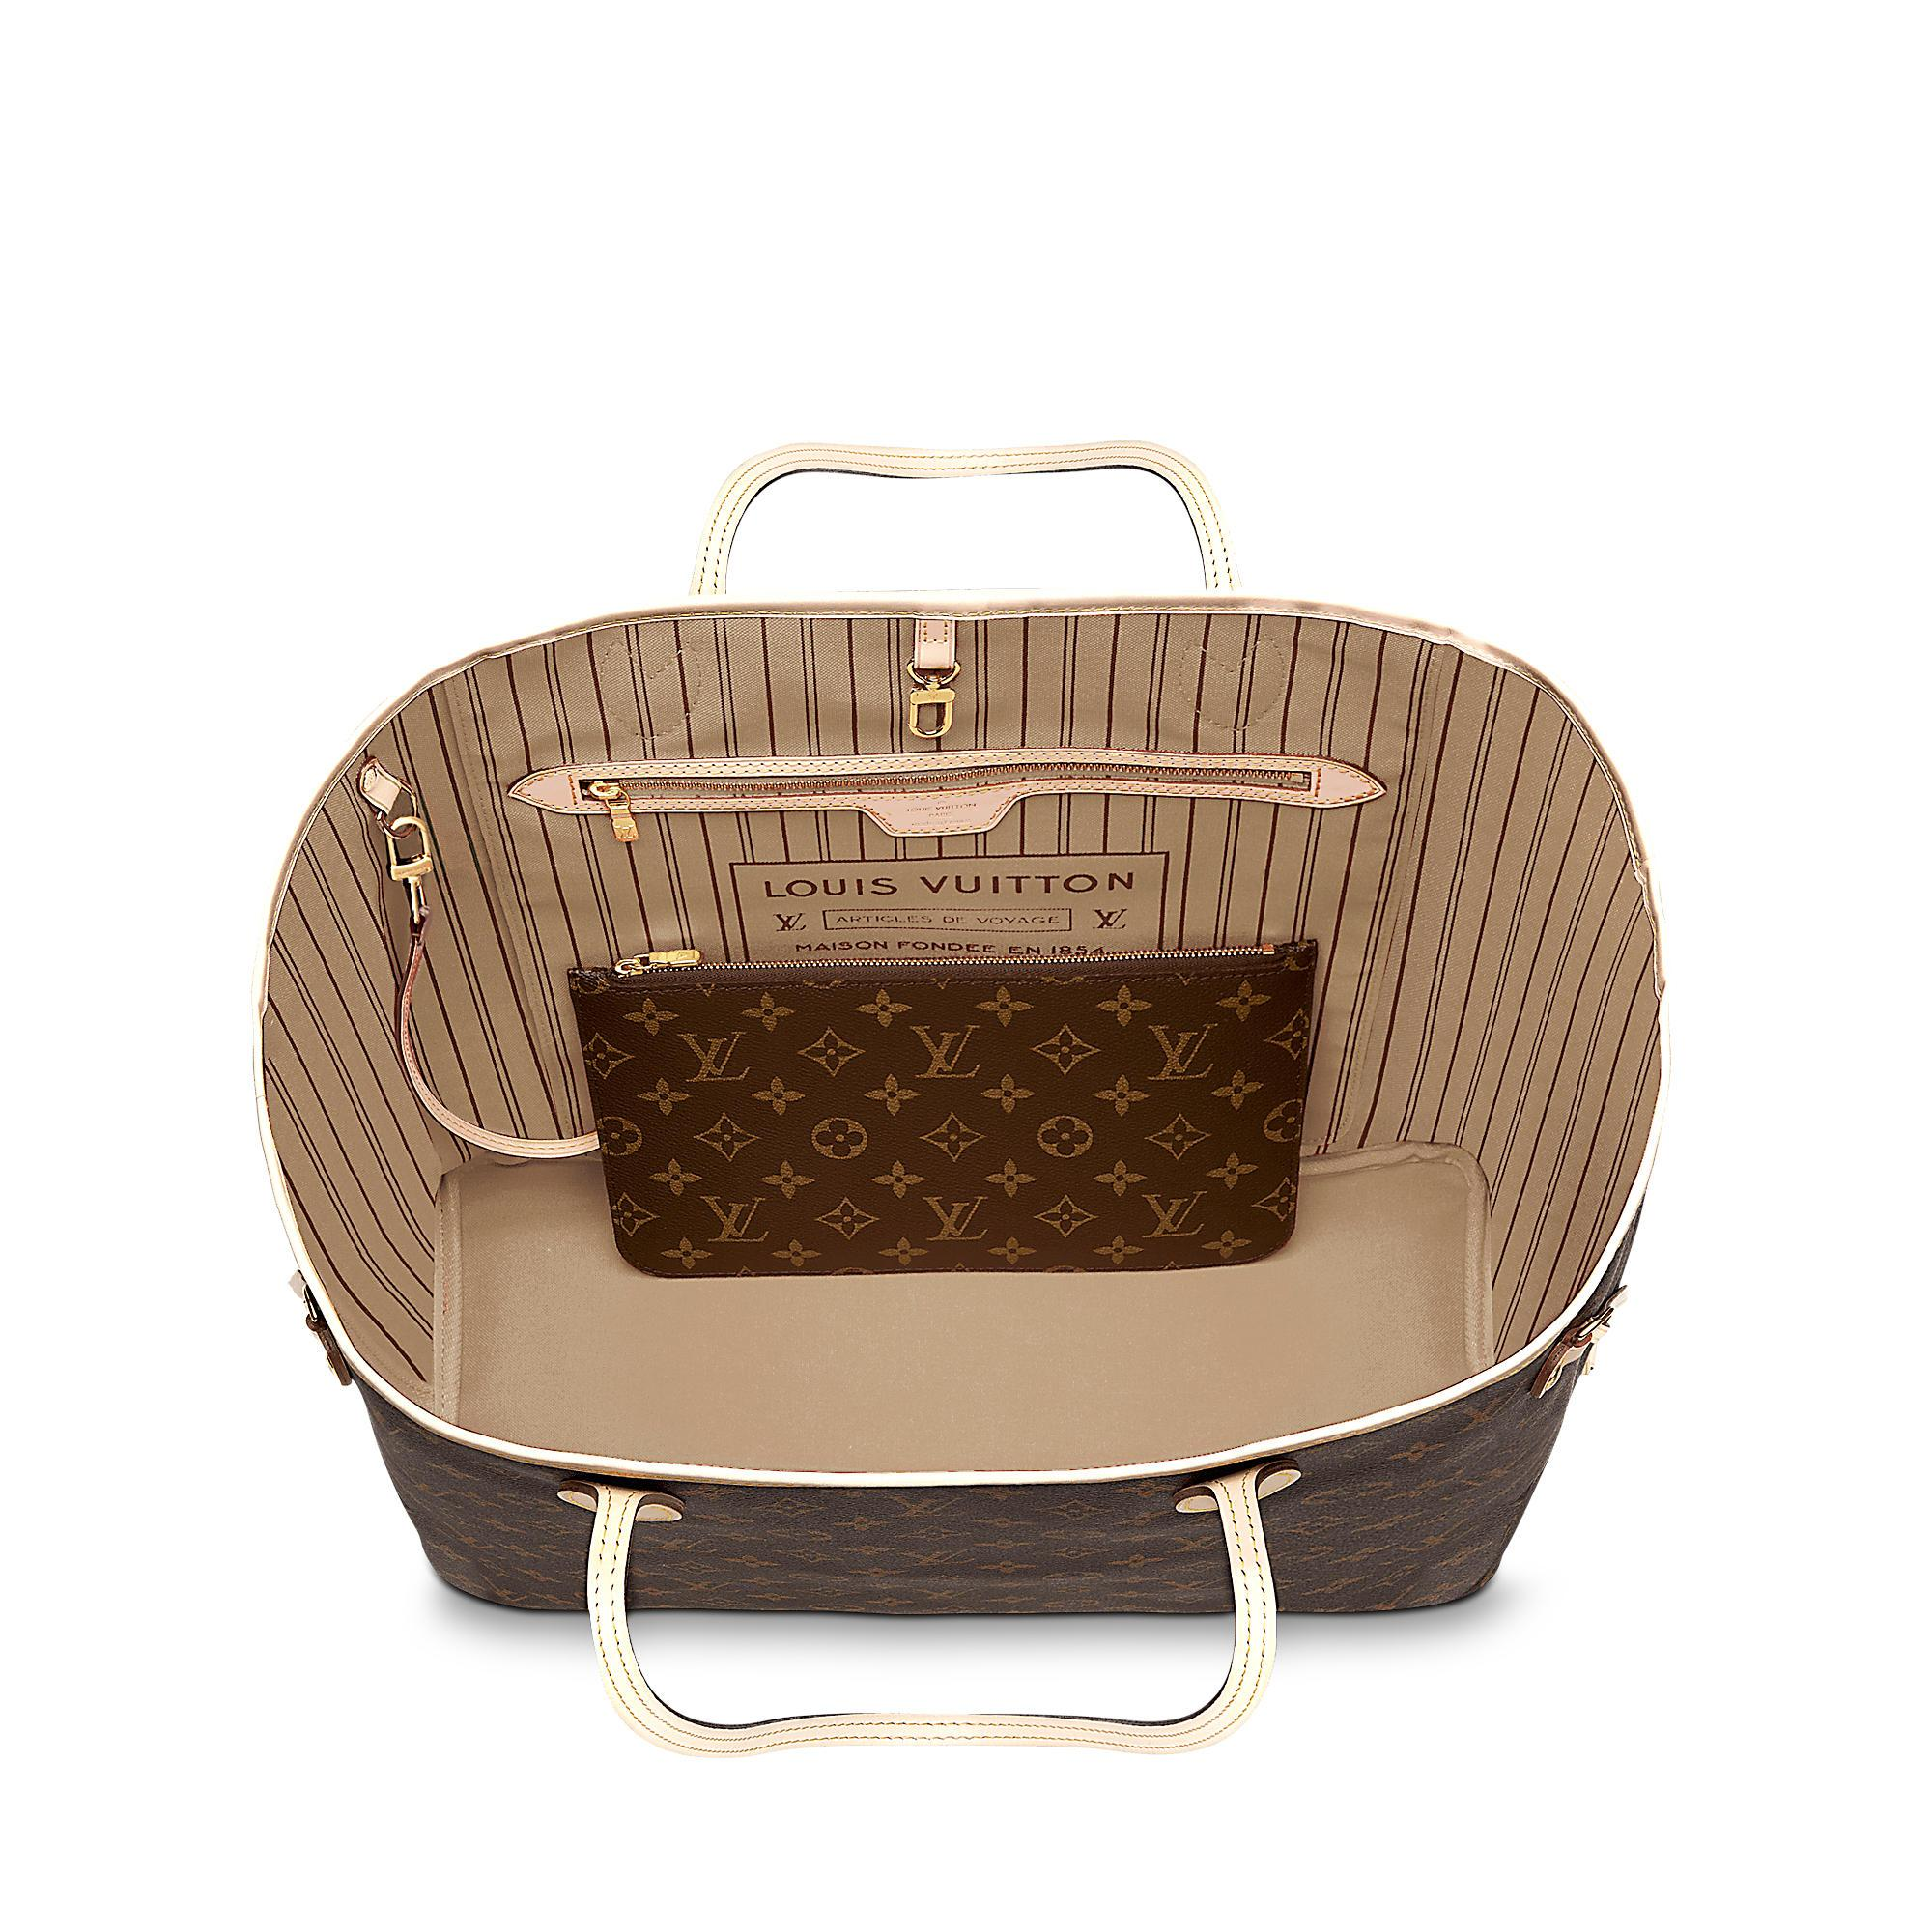LOUIS-VUITTON: (901, 1017, 984, 1085), (1141, 1016, 1219, 1086), (669, 1026, 750, 1090), (692, 1191, 770, 1246), (915, 1191, 987, 1247), (1139, 1185, 1210, 1240), (1088, 909, 1127, 934), (773, 906, 803, 938)
